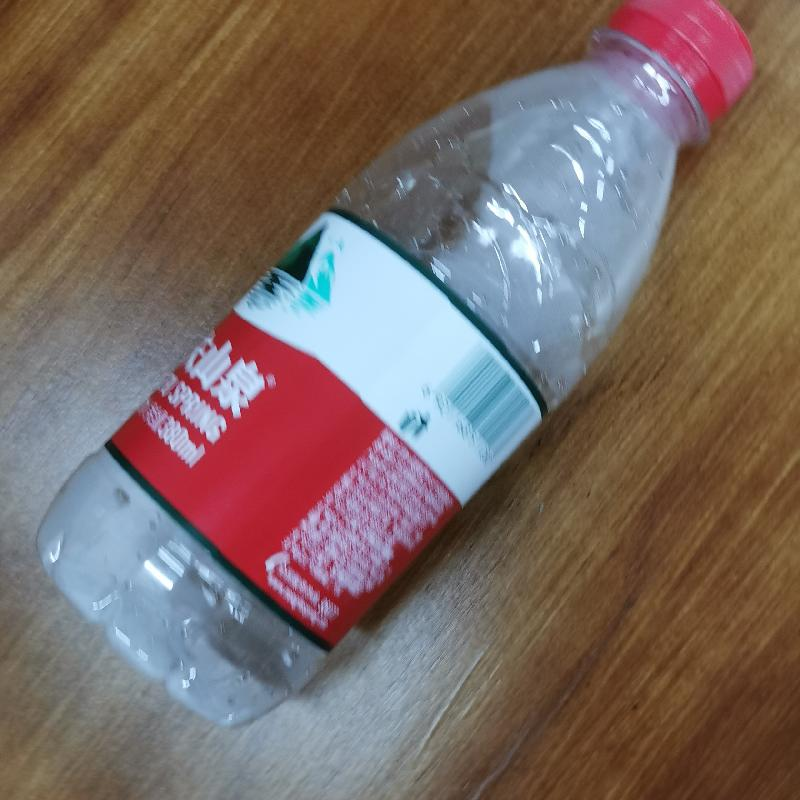bottles: (27, 3, 759, 730)
